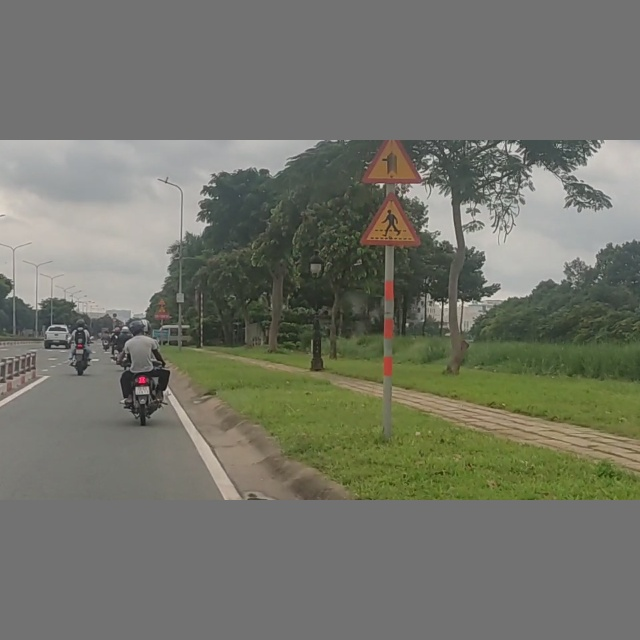W.207: (361, 141, 424, 183)
W.224: (360, 191, 422, 246)
